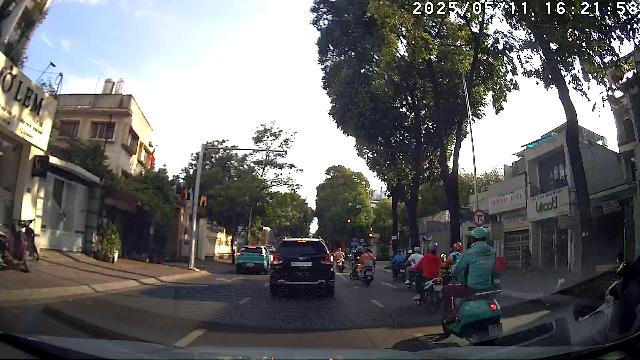123b-cam-re-phai: (472, 209, 486, 226)
